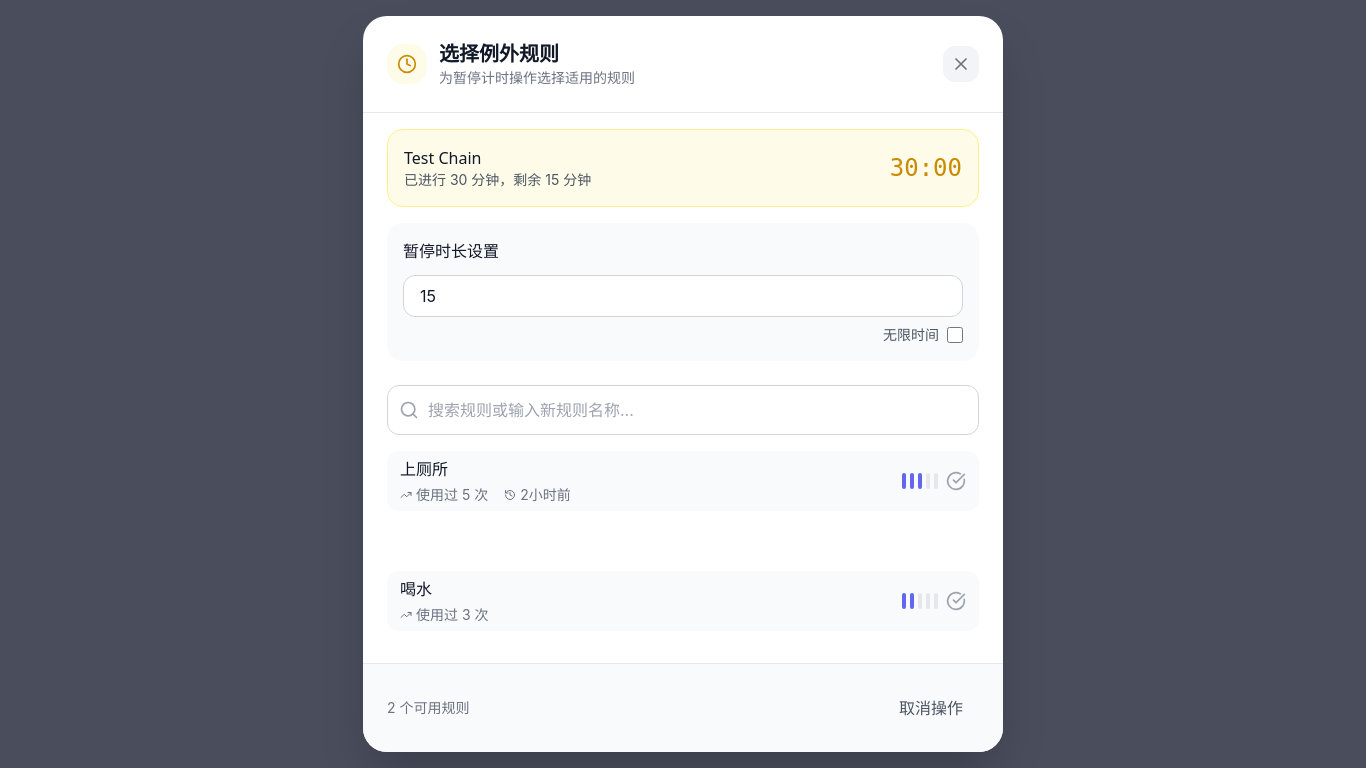
Scenario: RuleSelectionDialog › error handling › should allow dismissing error
Type "新规则" into the field labelled "搜索规则" at (683, 410), box [387,385,979,435]
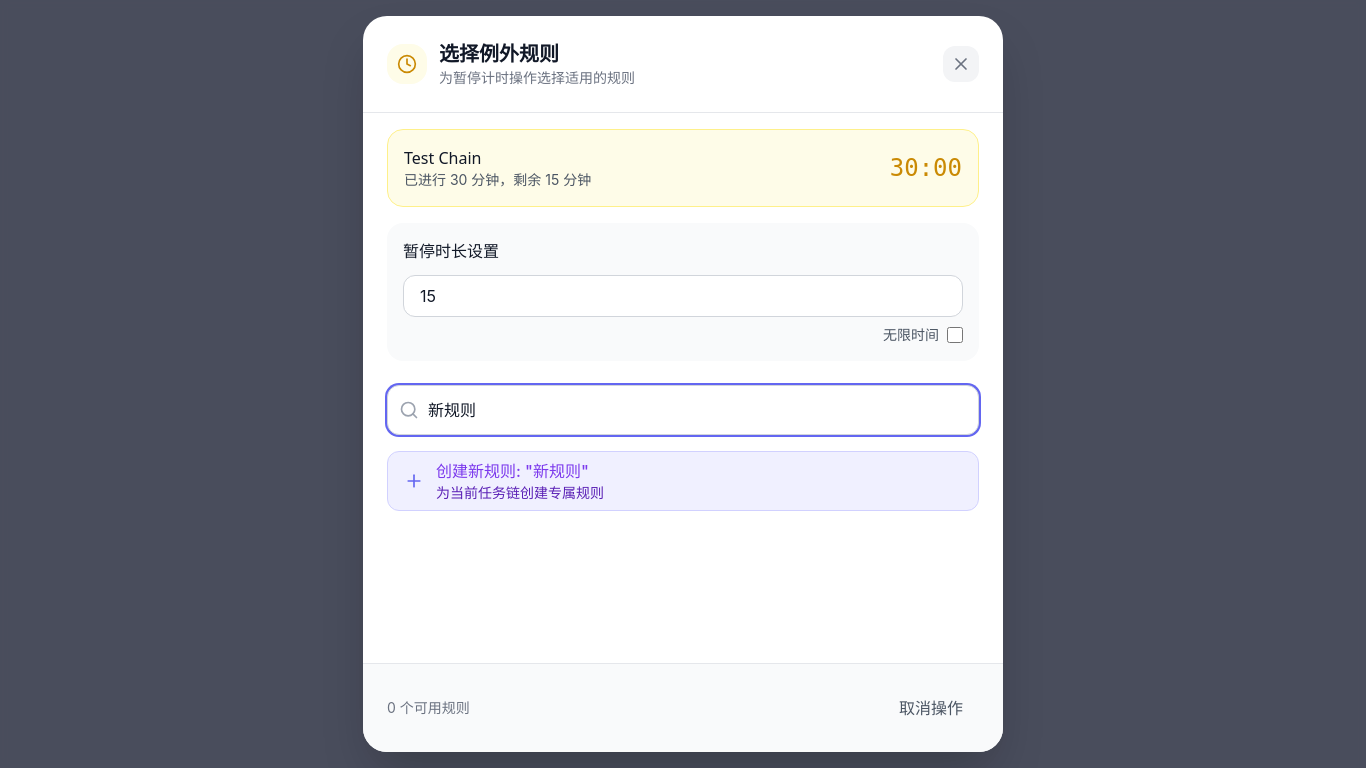
Click the text "创建新规则: \"新规则\"" at (512, 471), box [436,461,589,481]
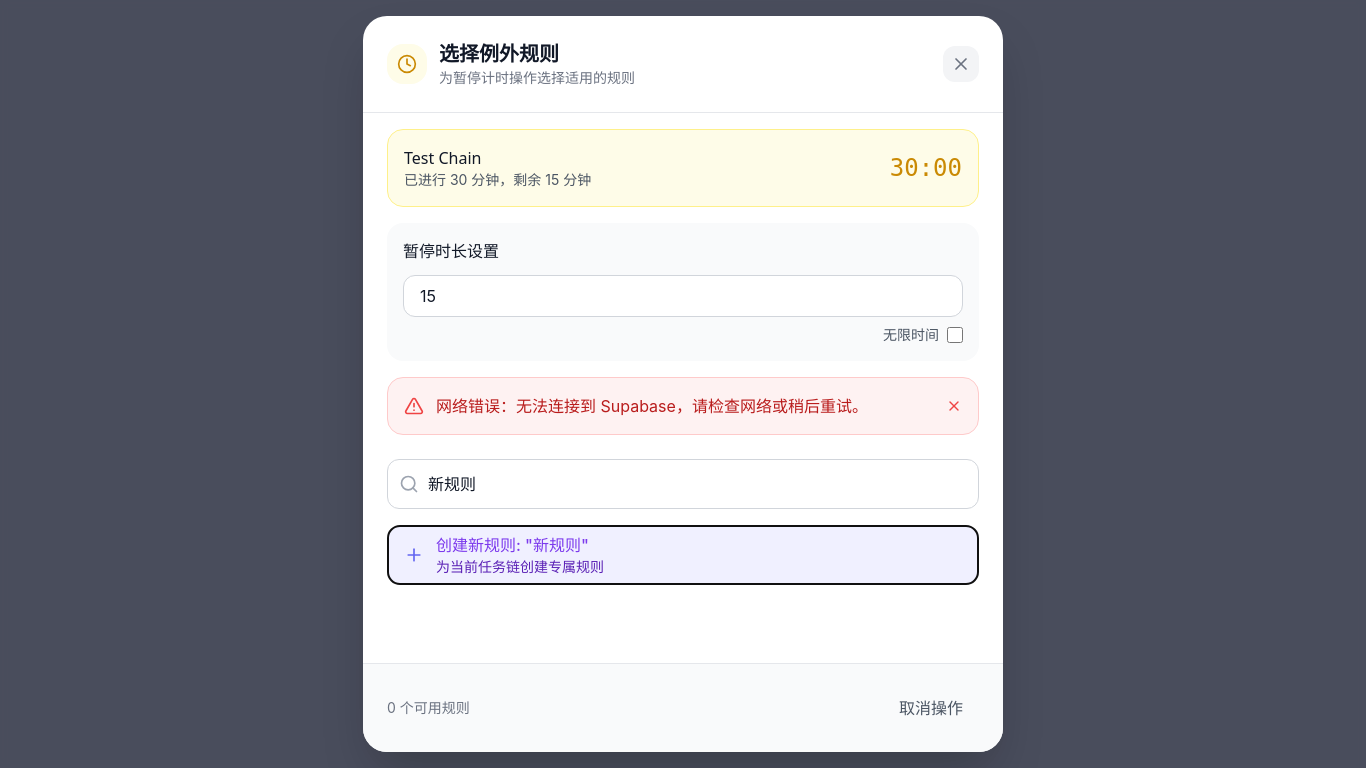
Expected: the text "网络错误：无法连接到 Supabase，请检查网络或稍后重试。" is shown, [436,394,934,418]
Click the button named "关闭错误提示" at (954, 406), box [946,398,962,414]
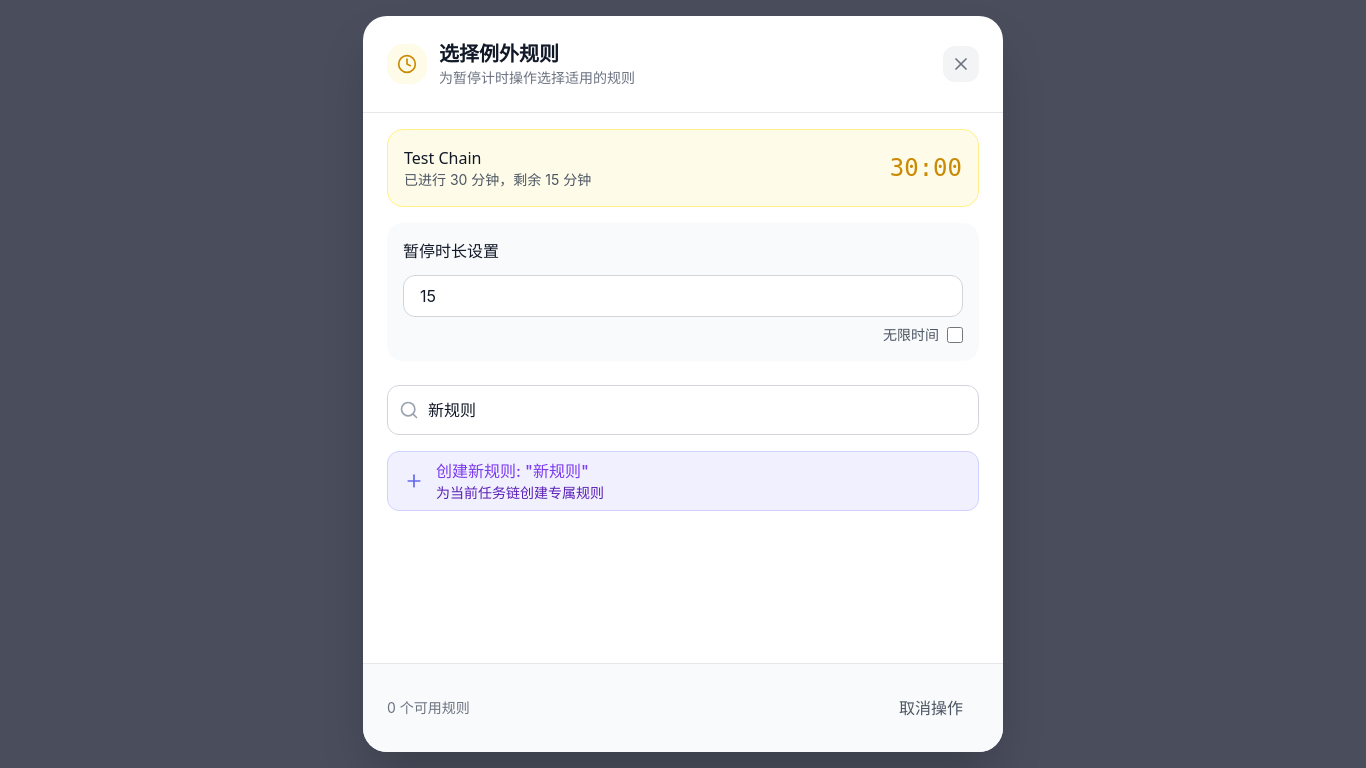
Expected: the text "网络错误" is gone
